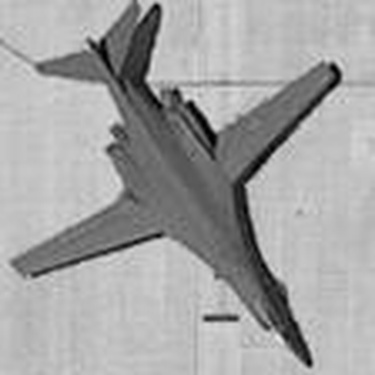airplane: (1, 1, 347, 369)
